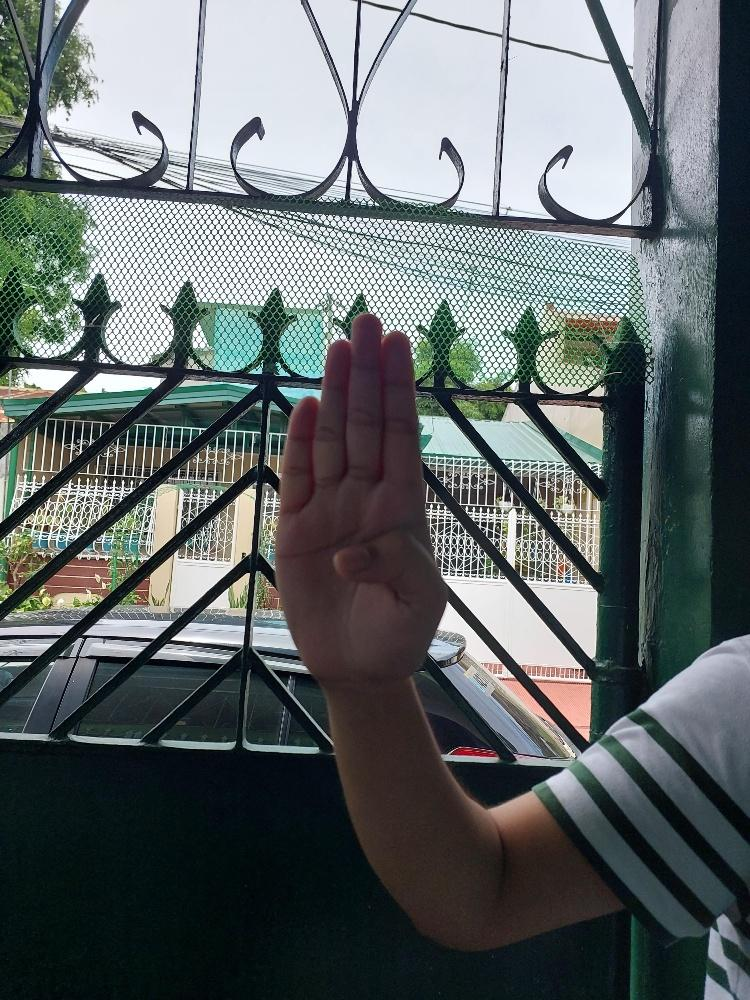b: (270, 304, 452, 687)
